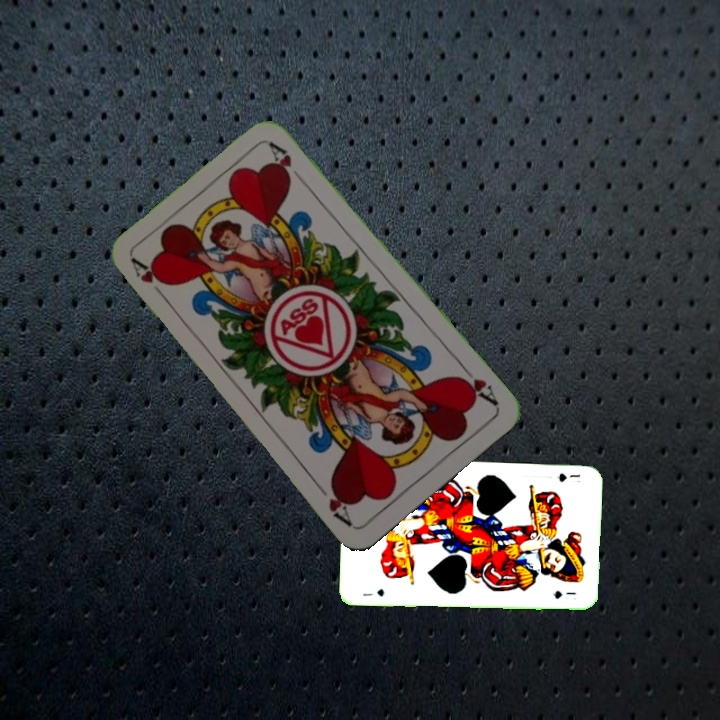GU: (553, 469, 583, 485), (359, 585, 386, 599)
HA: (453, 360, 501, 409), (128, 255, 171, 305)
